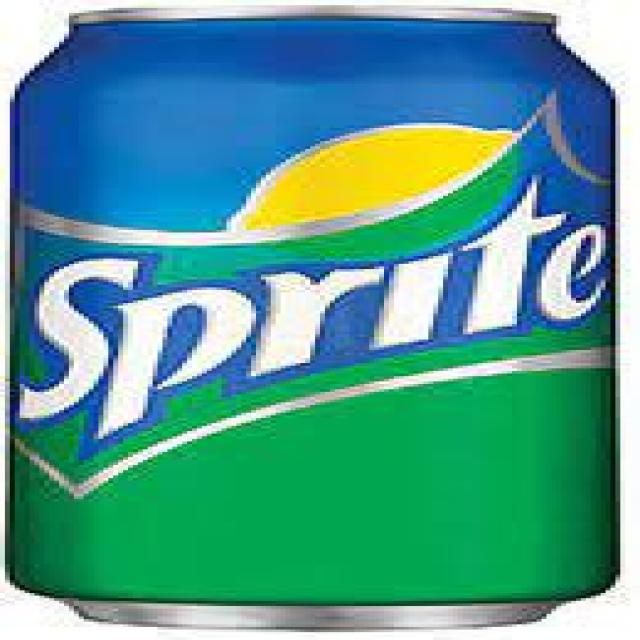aluminum_can: (10, 13, 620, 628)
